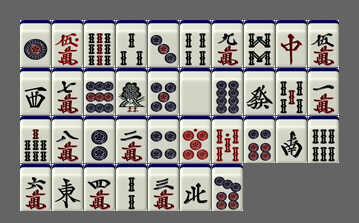0m: (52, 20, 83, 67)
0p: (180, 116, 211, 163)
0s: (212, 116, 243, 163)
1m: (308, 68, 339, 115)
1p: (20, 20, 51, 67)
1s: (116, 68, 147, 115)
1z: (52, 164, 83, 211)
2m: (116, 116, 147, 163)
2p: (84, 116, 115, 163)
2s: (116, 164, 147, 211)
2z: (276, 116, 307, 163)
3m: (148, 164, 179, 211)
3p: (148, 20, 179, 67)
3s: (116, 20, 147, 67)
3z: (20, 68, 51, 115)
4m: (84, 164, 115, 211)
4p: (148, 116, 179, 163)
4s: (180, 20, 211, 67)
4z: (180, 164, 211, 211)
5m: (308, 20, 339, 67)
5p: (148, 68, 179, 115)
5s: (276, 68, 307, 115)
5z: (180, 68, 211, 115)
6m: (20, 164, 51, 211)
6p: (244, 116, 275, 163)
6s: (308, 116, 339, 163)
6z: (244, 68, 275, 115)
7m: (52, 68, 83, 115)
7p: (212, 164, 243, 211)
7s: (20, 116, 51, 163)
7z: (276, 20, 307, 67)
8m: (52, 116, 83, 163)
8p: (212, 68, 243, 115)
8s: (244, 20, 275, 67)
9m: (212, 20, 243, 67)
9p: (84, 68, 115, 115)
9s: (84, 20, 115, 67)
